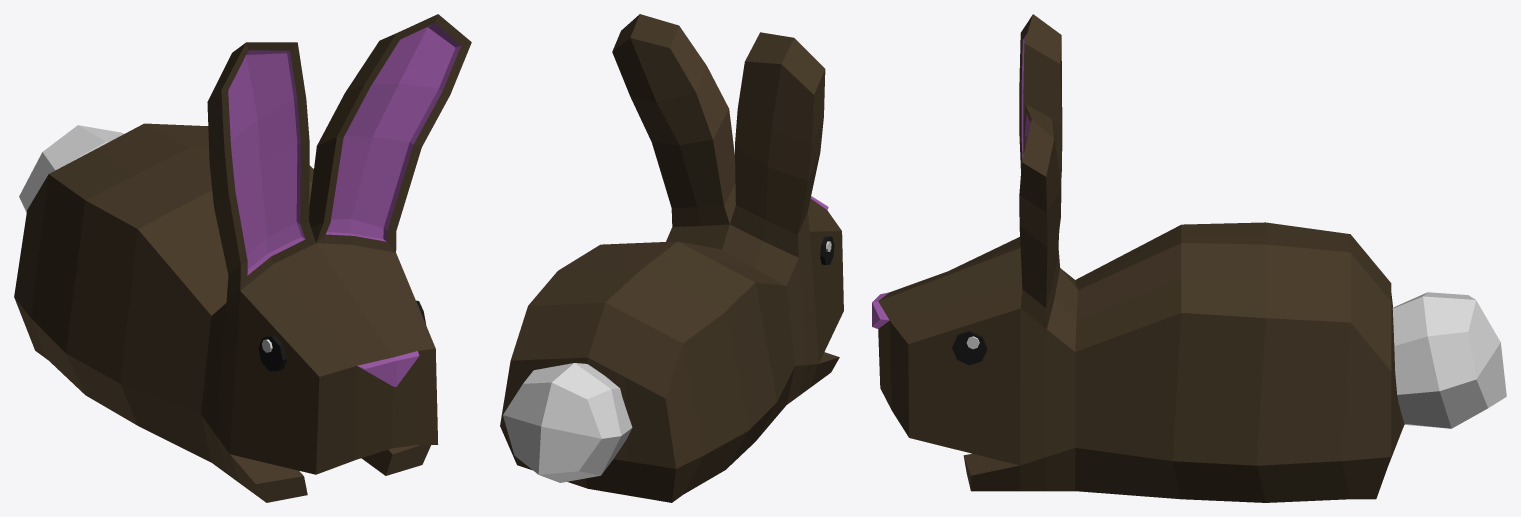
File: Rabbit_01.fbx
The picture shows the model from 3 angles, left to right: view 1: azimuth 30°, elevation 25°; view 2: azimuth 150°, elevation 25°; view 3: azimuth 270°, elevation 25°; orthographic projection. The views are drawn at different scales.
Visible parts, largest first — view 1: Rabbit_01; view 2: Rabbit_01; view 3: Rabbit_01.
Boxes of the visible parts, x1,y1,x2,y2 form: Rabbit_01: (14, 14, 471, 502); Rabbit_01: (500, 14, 843, 502); Rabbit_01: (872, 14, 1506, 502).
Size of the model in its own units: 3.29 by 4.84 by 6.77.
